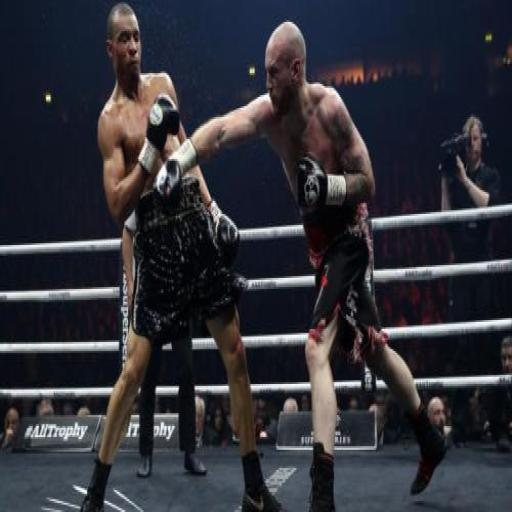boxing: (152, 18, 448, 508), (78, 2, 284, 510)
